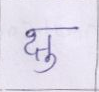u_matra: (35, 54, 58, 73)
